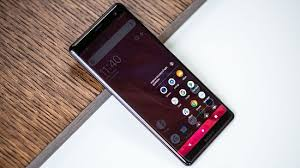sony: (67, 1, 237, 168)
